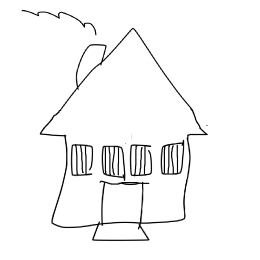closed_window: (99, 140, 128, 180), (157, 140, 187, 178), (69, 139, 95, 181), (128, 140, 155, 179)
door: (96, 179, 149, 229)
single_line_roof: (34, 25, 215, 142)
smoking_chimney: (18, 5, 108, 94)
wall: (51, 131, 195, 234)
